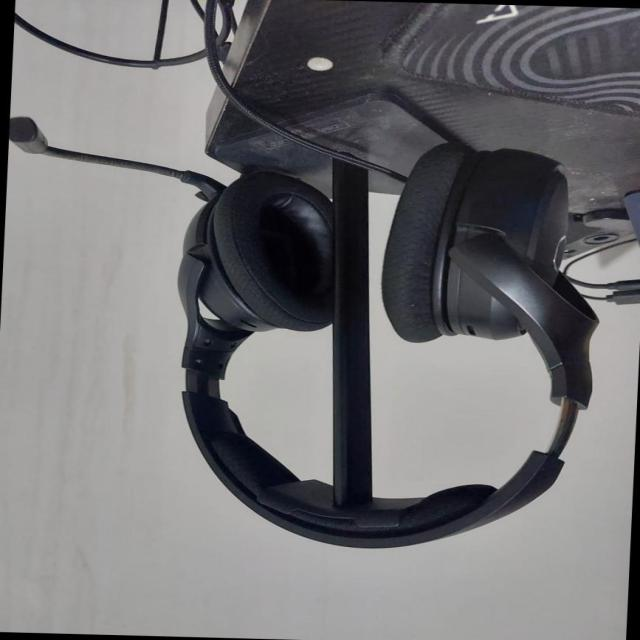earphone: (86, 94, 601, 569)
